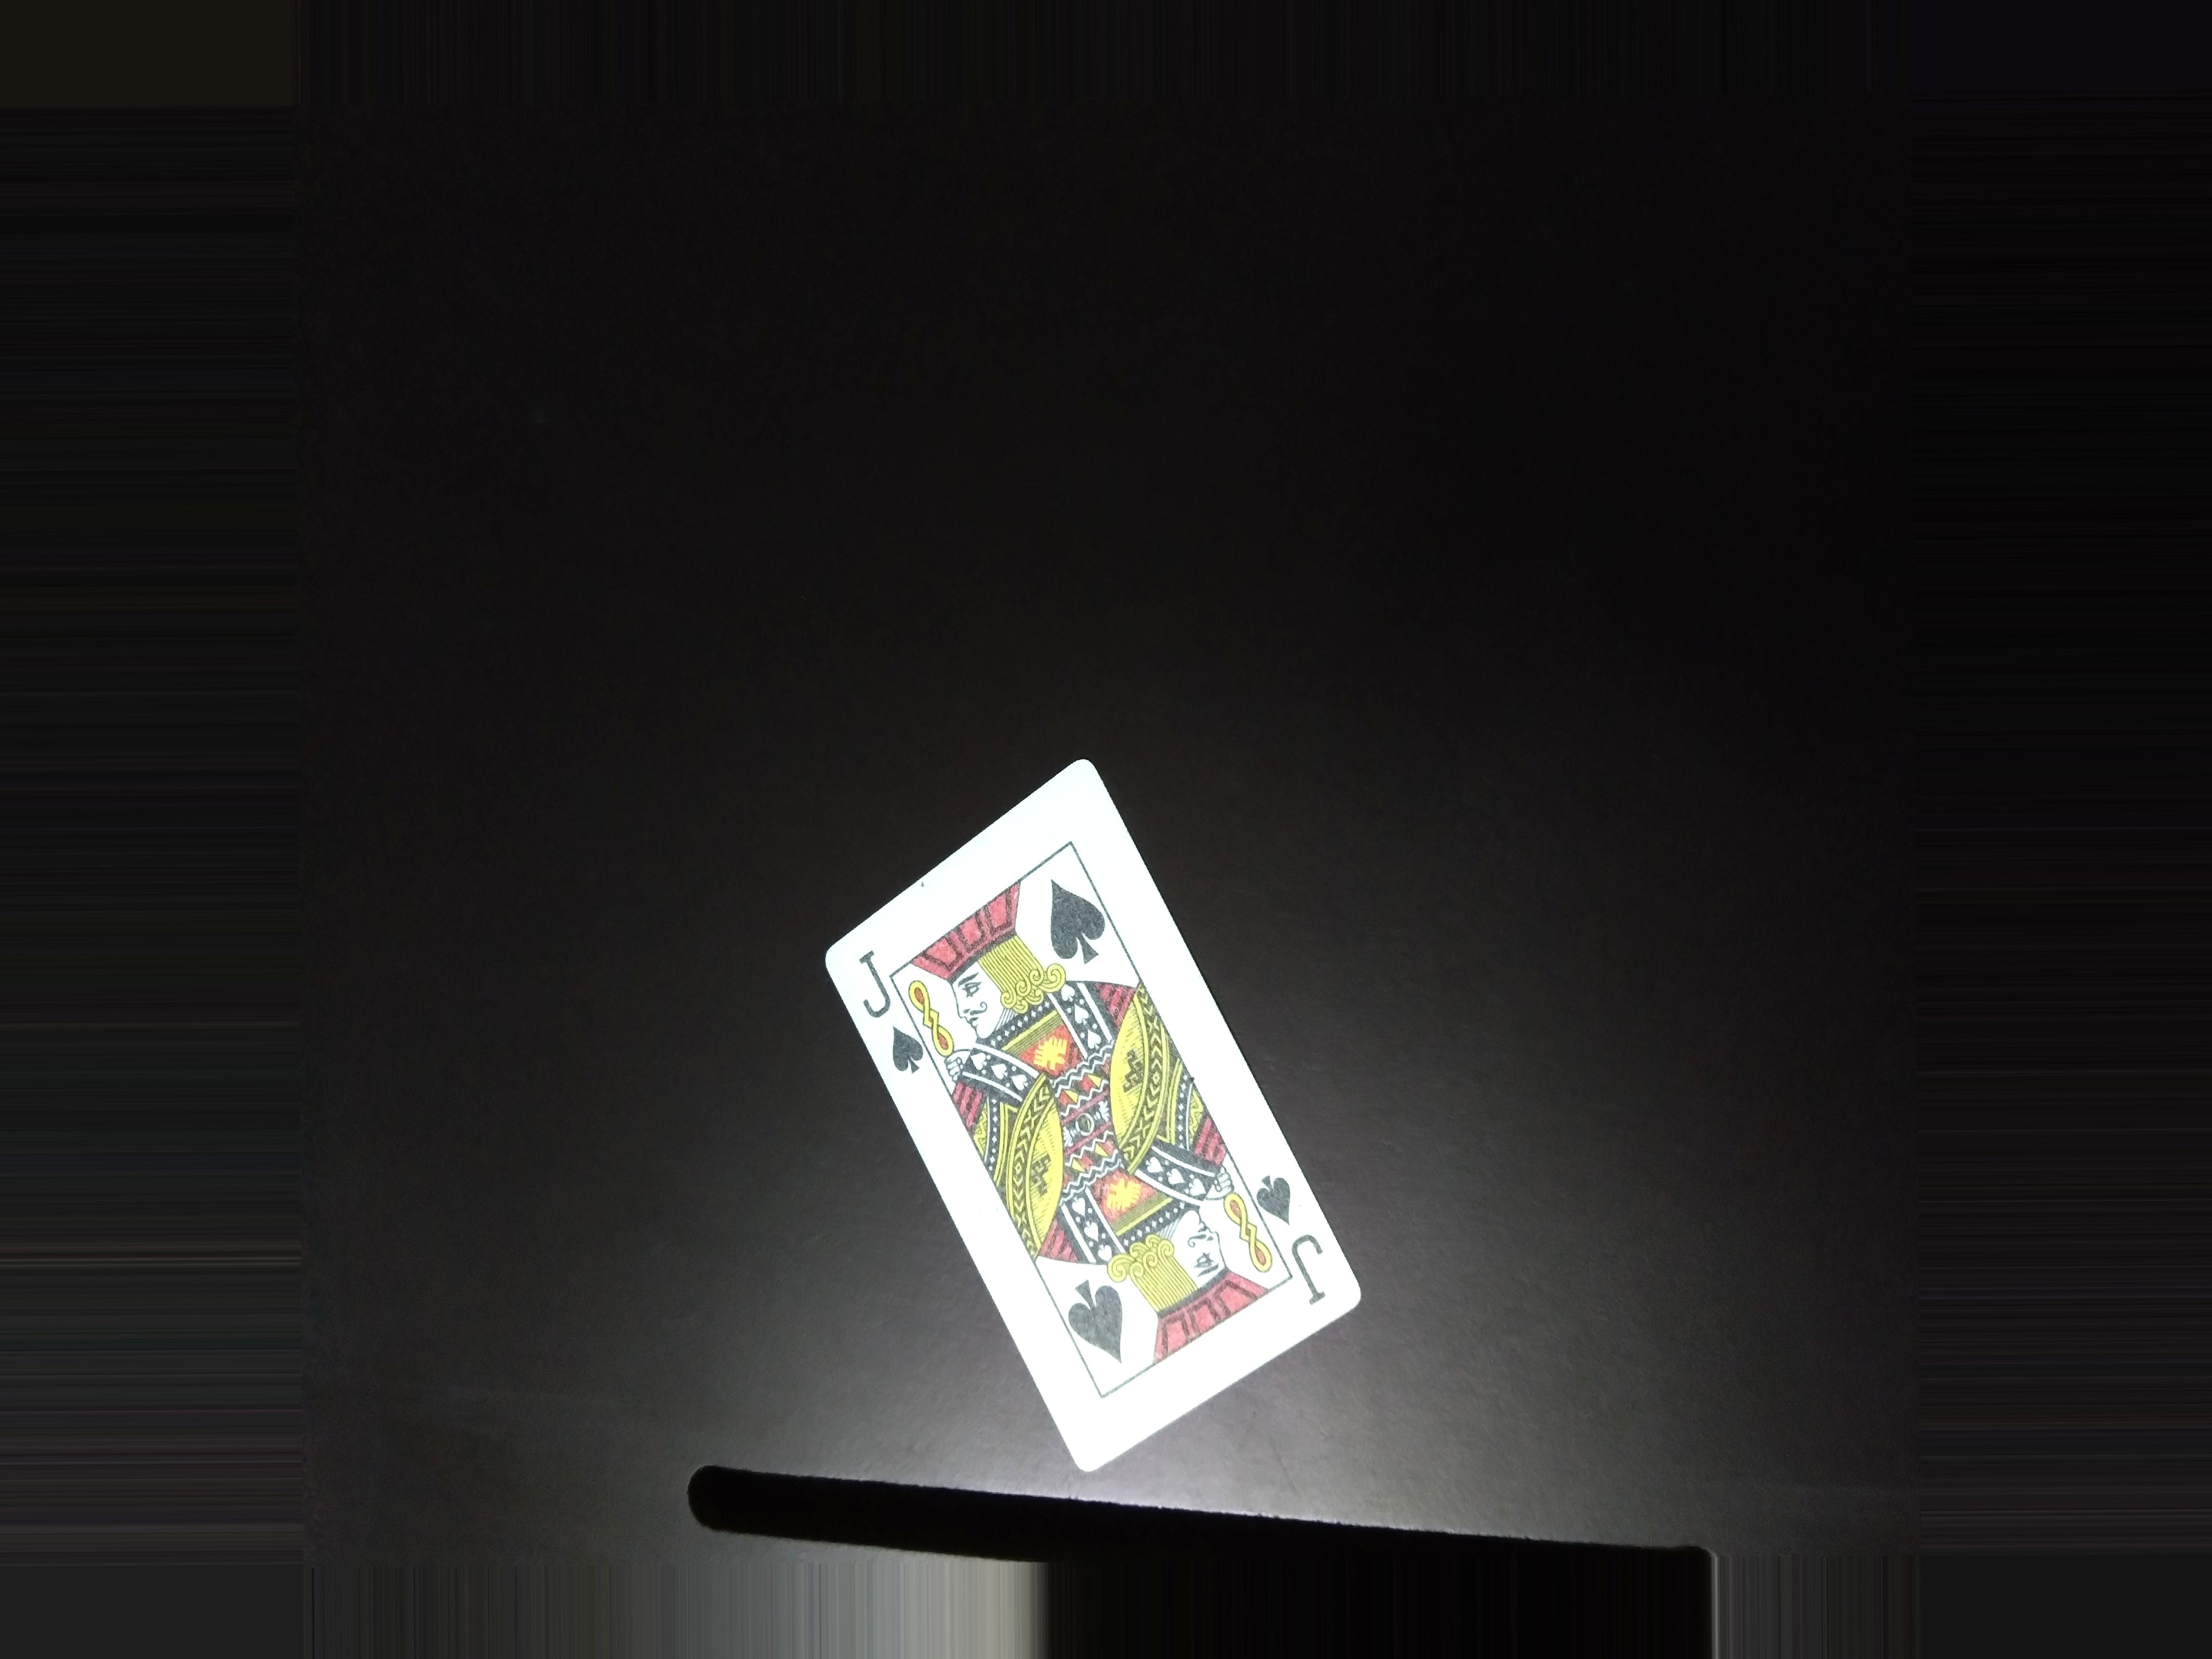JS: (864, 946, 927, 1080)
